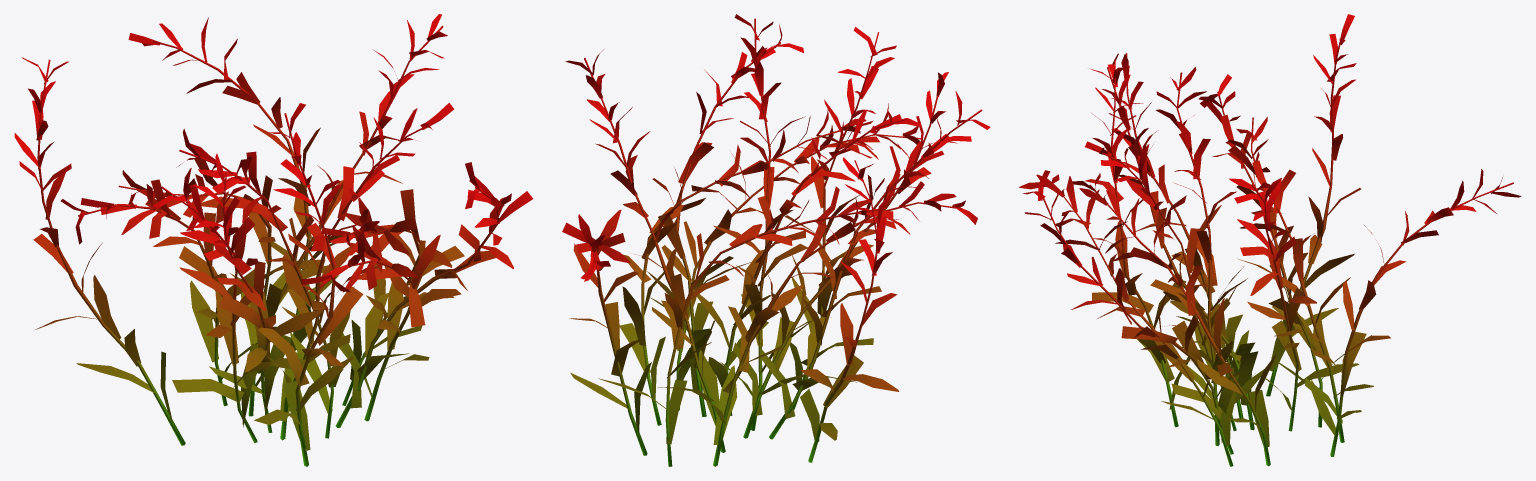
Rendered from Var10_LOD2.fbx.
3 renders of one model, left to right at view 1: azimuth 30°, elevation 25°; view 2: azimuth 150°, elevation 25°; view 3: azimuth 270°, elevation 25°, orthographic. The views are drawn at different scales.
Visible parts, largest first — view 1: _i95z_Var10_LOD2; view 2: _i95z_Var10_LOD2; view 3: _i95z_Var10_LOD2.
Boxes of the visible parts, box(x1,y1,x2,y2) form: _i95z_Var10_LOD2: box(14, 14, 533, 466); _i95z_Var10_LOD2: box(562, 14, 990, 466); _i95z_Var10_LOD2: box(1019, 14, 1521, 466).
Size of the model in its own units: 26.18 by 24.4 by 32.2.
